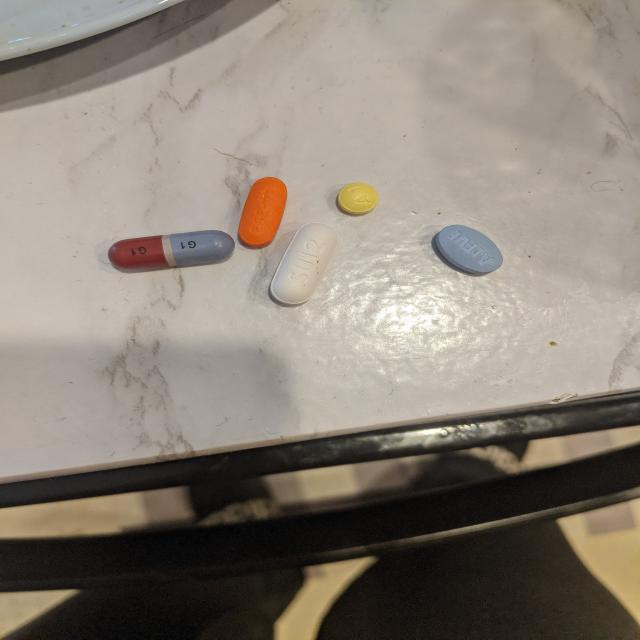non-organic waste: (268, 221, 340, 306), (107, 229, 237, 272), (237, 176, 288, 248), (434, 224, 504, 276), (335, 182, 380, 216)
